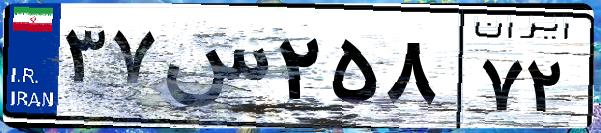2: (270, 28, 330, 110), (525, 38, 570, 115)
3: (57, 26, 110, 100)
5: (330, 28, 385, 110)
7: (475, 38, 525, 113), (110, 28, 158, 98)
8: (385, 28, 445, 110)
س: (158, 20, 270, 120)
